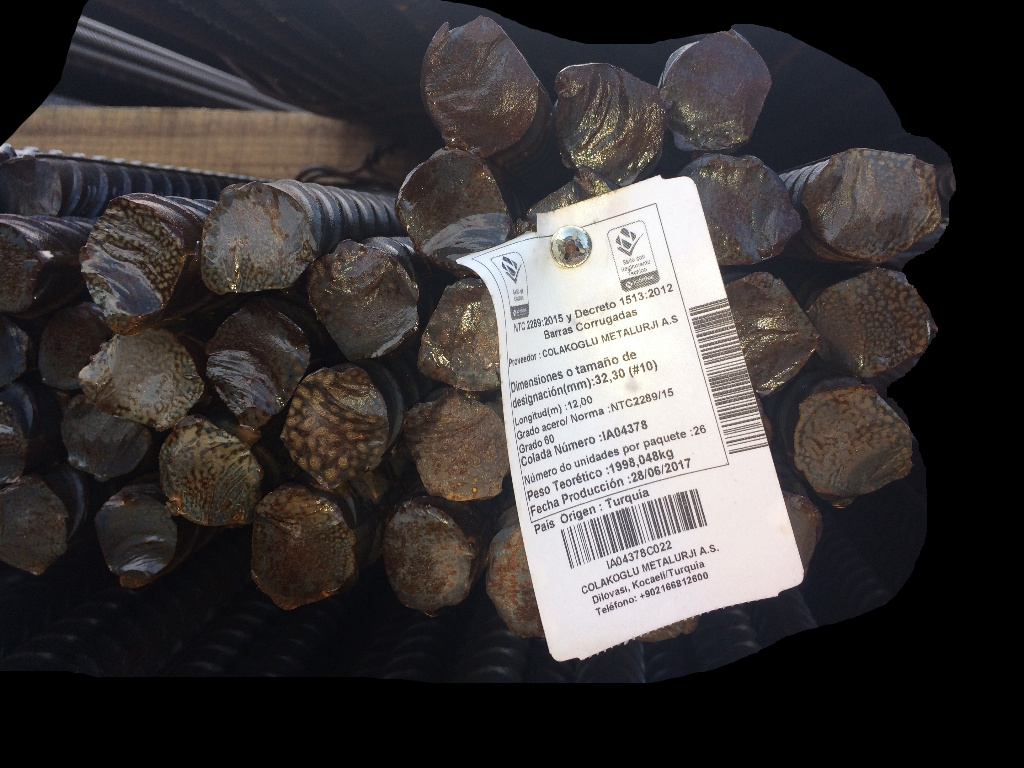dipstick: (422, 17, 538, 151), (554, 63, 663, 194), (820, 149, 940, 260), (398, 152, 510, 267), (283, 367, 387, 488), (817, 268, 932, 377), (664, 37, 772, 152), (206, 307, 307, 428), (200, 185, 312, 293), (251, 491, 354, 608), (313, 244, 416, 361), (686, 157, 800, 261), (83, 197, 182, 313), (725, 274, 819, 396), (800, 393, 912, 489), (404, 399, 506, 502), (160, 423, 256, 526), (93, 333, 204, 420), (422, 279, 500, 394), (384, 510, 467, 608), (486, 528, 545, 639), (61, 400, 148, 475), (1, 480, 66, 574), (96, 505, 175, 579), (37, 312, 104, 389), (1, 228, 37, 312)
